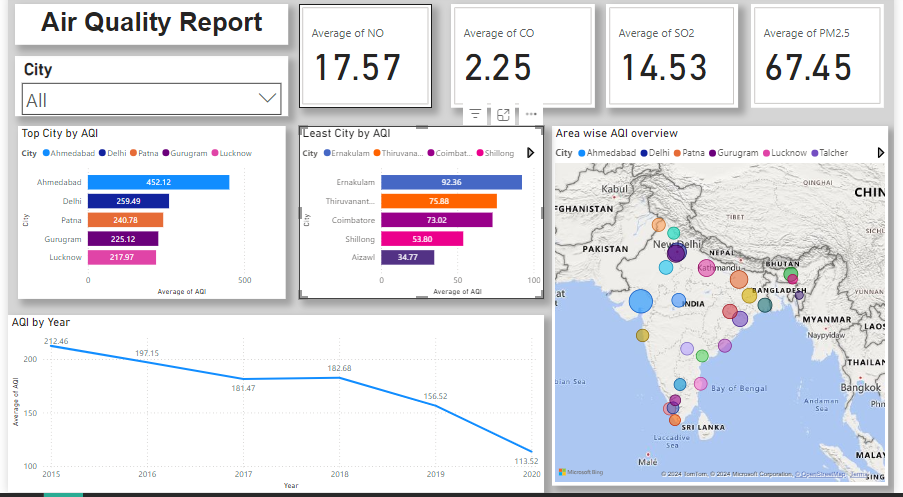

This screenshot's page, from the dashboard's own definition file:
{"tool":"powerbi","page":{"name":"Page 1","canvas":[1280,720],"ordinal":0},"visuals":[{"type":"lineChart","title":"AQI by Year","fields":{"Category":["city_day.Date.Variation.Date Hierarchy.Year","city_day.Date.Variation.Date Hierarchy.Quarter","city_day.Date.Variation.Date Hierarchy.Month","city_day.Date.Variation.Date Hierarchy.Day"],"Y":["Avg(city_day.AQI)"]},"box":[0,462.7,774.9,257.3],"z":0},{"type":"slicer","fields":{"Values":["city_day.City"]},"box":[10.1,88.2,394.7,86.7],"z":1000},{"type":"cardVisual","fields":{"Data":["Avg(city_day.CO)"]},"box":[640.5,13,208.2,150.4],"z":2000},{"type":"cardVisual","fields":{"Data":["Avg(city_day.NO)"]},"box":[420.7,13,192.3,150.4],"z":3000},{"type":"cardVisual","fields":{"Data":["Avg(city_day.SO2)"]},"box":[864.6,13,190.8,150.4],"z":4000},{"type":"cardVisual","fields":{"Data":["Avg(city_day.PM2.5)"]},"box":[1074.1,13.2,192.5,149.9],"z":5000},{"type":"map","title":"Area wise AQI overview","fields":{"Category":["city_day.City"],"Size":["Avg(city_day.AQI)"],"Series":["city_day.City"]},"box":[786.5,189.4,485.8,520.5],"z":6000},{"type":"barChart","title":"Top City by AQI","fields":{"Category":["city_day.City"],"Y":["Avg(city_day.AQI)"],"Series":["city_day.City"]},"box":[14.5,189.4,387.5,250.1],"z":7000},{"type":"barChart","title":"Least City by AQI","fields":{"Category":["city_day.City"],"Y":["Avg(city_day.AQI)"],"Series":["city_day.City"]},"box":[420.7,189.4,354.2,250.1],"z":8000},{"type":"textbox","box":[10.1,13,394.7,59.3],"z":9000}]}

Visuals, with their boxes in screenshot pixels (x1, y1, x2, y2), scaled from the page's 1280x720 canvas onto the 903x497 screenshot:
"AQI by Year" lineChart: x1=0 y1=319 x2=547 y2=496
slicer - city_day.City: x1=7 y1=61 x2=286 y2=121
cardVisual - Avg(city_day.CO): x1=452 y1=9 x2=599 y2=113
cardVisual - Avg(city_day.NO): x1=297 y1=9 x2=432 y2=113
cardVisual - Avg(city_day.SO2): x1=610 y1=9 x2=745 y2=113
cardVisual - Avg(city_day.PM2.5): x1=758 y1=9 x2=894 y2=113
"Area wise AQI overview" map: x1=555 y1=131 x2=898 y2=490
"Top City by AQI" barChart: x1=10 y1=131 x2=284 y2=303
"Least City by AQI" barChart: x1=297 y1=131 x2=547 y2=303
textbox: x1=7 y1=9 x2=286 y2=50
